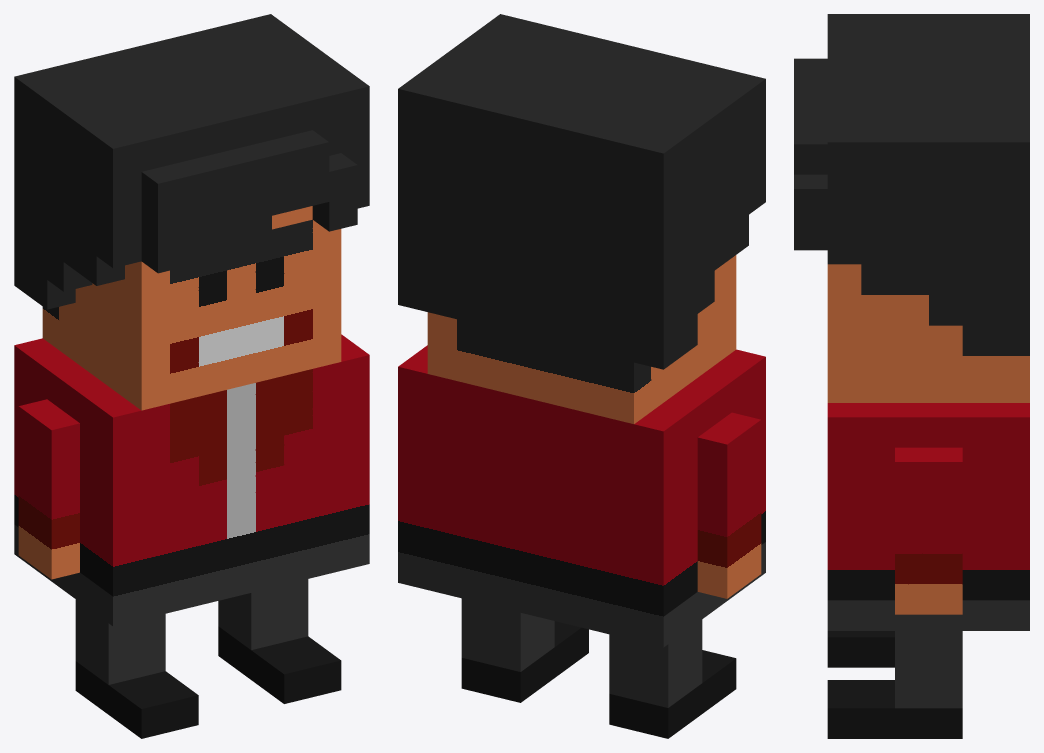
The model's file is dt-strongest.fbx.
3 views of the same model, side by side, from view 1: azimuth 30°, elevation 25°; view 2: azimuth 150°, elevation 25°; view 3: azimuth 270°, elevation 25° (orthographic). The views are drawn at different scales.
Parts seen in each view (by area): view 1: _762; view 2: _762; view 3: _762.
Part boxes in pixels (x1=…): _762: x1=14, y1=14, x2=369, y2=738; _762: x1=398, y1=14, x2=765, y2=738; _762: x1=794, y1=14, x2=1029, y2=738.
Bounding box in the file's own units: 11 × 20 × 7.
